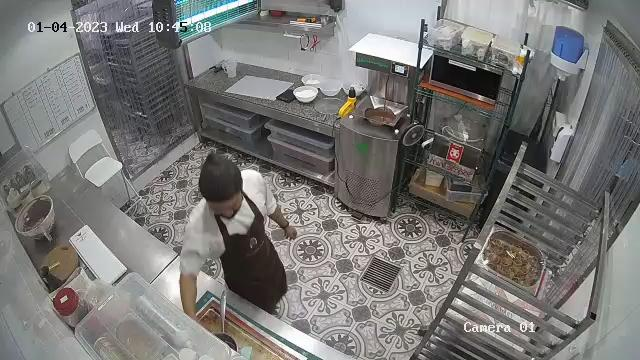apron: (200, 169, 292, 312)
